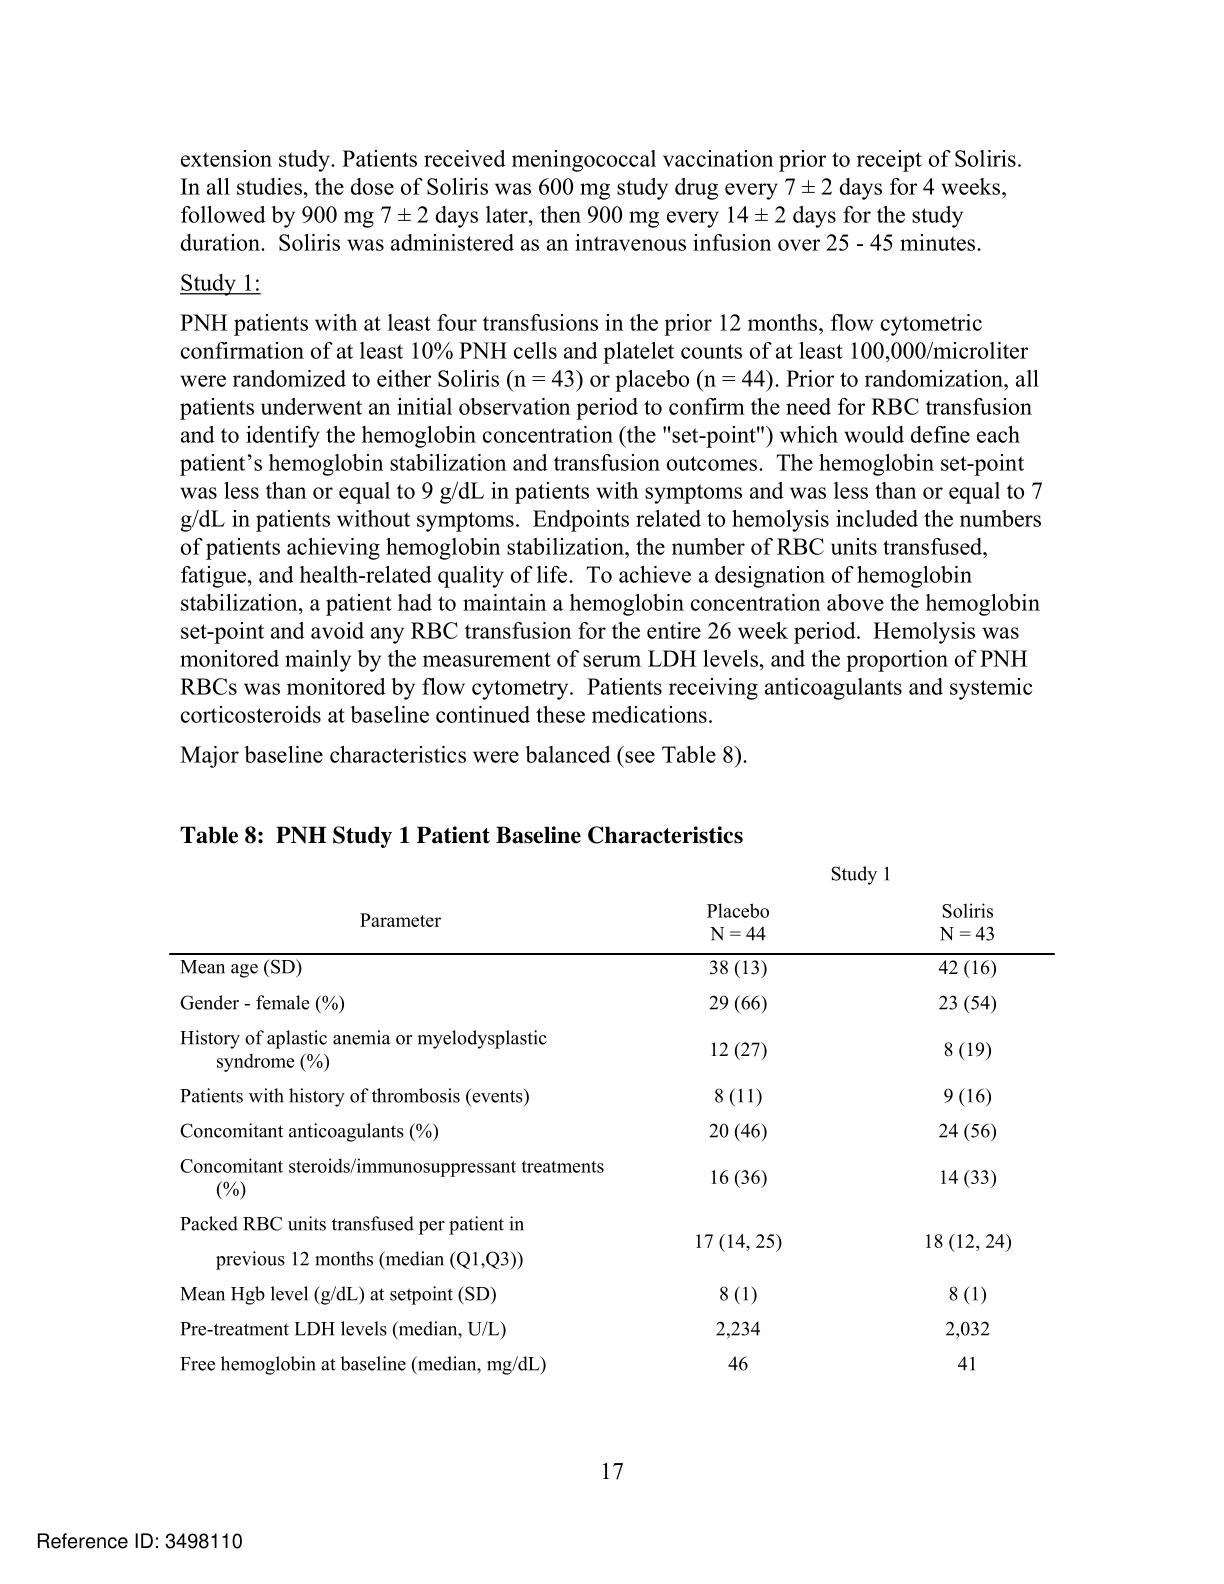partial_lined_merged_cells: (170, 861, 1056, 1383)
